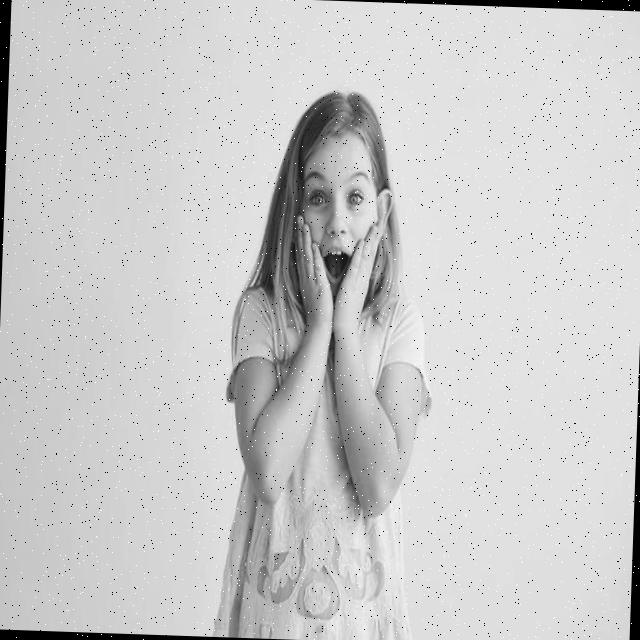Surprised: (298, 132, 380, 307)
